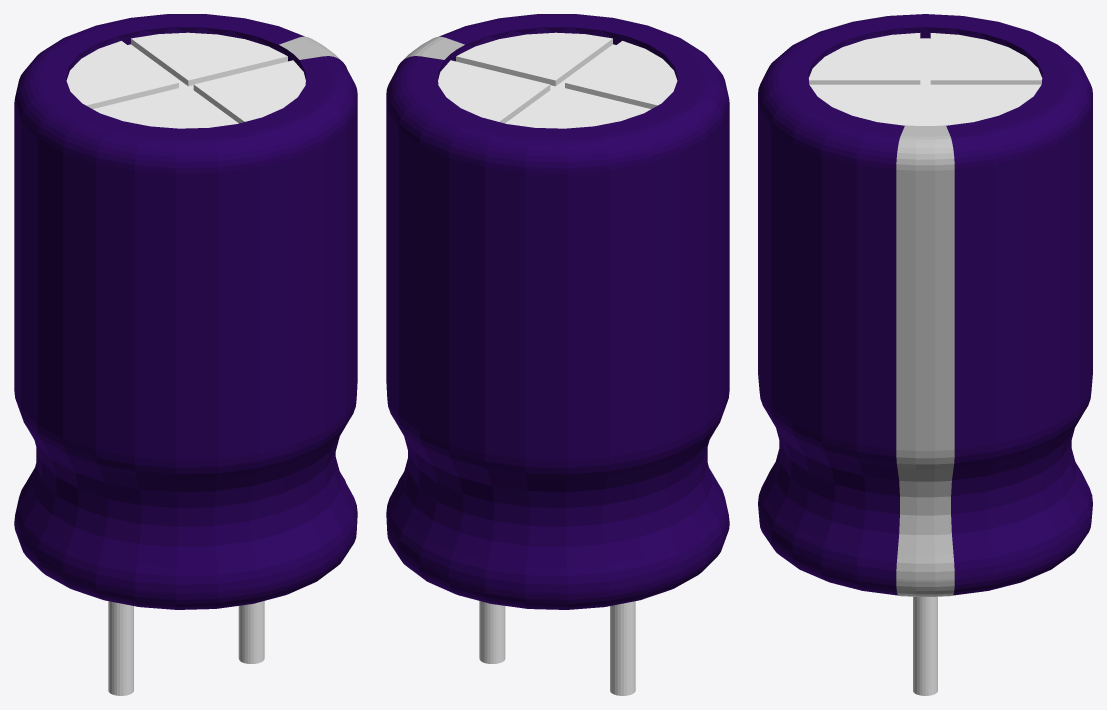
File: cpol-v_p3-5_d8_h12.obj
The picture shows the model from 3 angles, left to right: view 1: azimuth 30°, elevation 25°; view 2: azimuth 150°, elevation 25°; view 3: azimuth 270°, elevation 25°; orthographic projection. The views are drawn at different scales.
Visible parts, largest first — view 1: cpol-v_p3-5_d8_h12; view 2: cpol-v_p3-5_d8_h12; view 3: cpol-v_p3-5_d8_h12.
Part boxes in pixels (<box>): cpol-v_p3-5_d8_h12: <box>14,14,357,695</box>; cpol-v_p3-5_d8_h12: <box>386,14,729,695</box>; cpol-v_p3-5_d8_h12: <box>758,14,1092,695</box>.
Bounding box in the file's own units: 0.00711 × 0.0136 × 0.00708.
